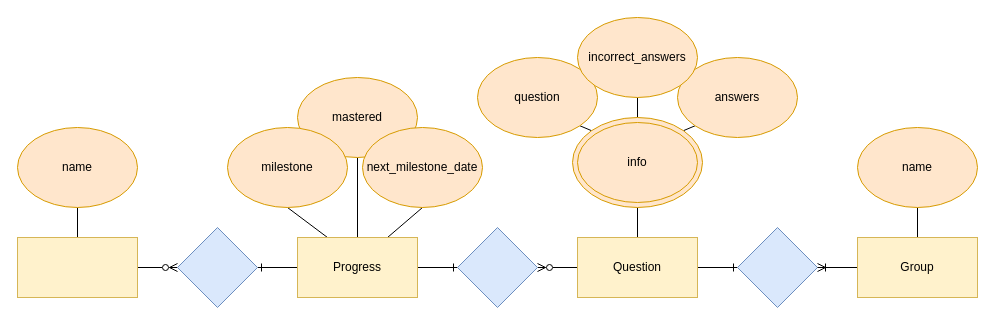
Image size: 995x325. Some labels were removed from this diagram. The shapes that lost their labels are listed below. From the top down, each one's centre as x and y in pixels, then its label:
(x=77, y=267): User
(x=217, y=267): has
(x=497, y=267): tracks
(x=777, y=267): belongs to
